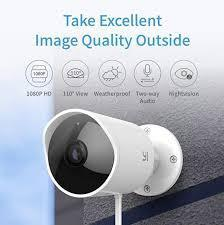tutu: (42, 113, 156, 199)
